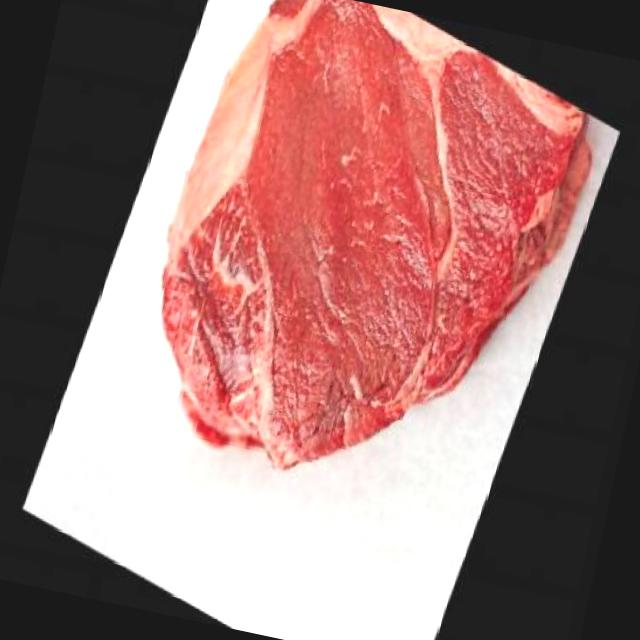beef: (78, 0, 622, 593)
